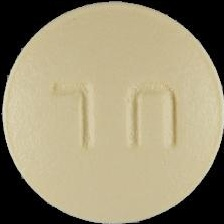10544-173: (0, 0, 224, 224)
